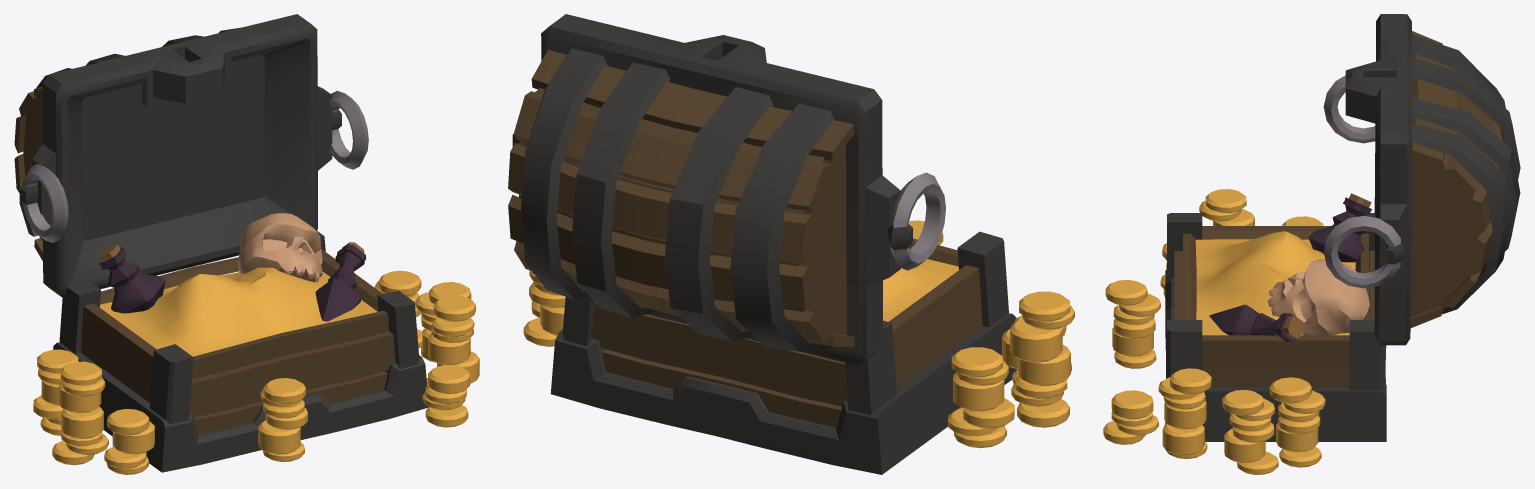
Rendered from Chest Gold-transformed.glb.
3 views of the same model, side by side, from view 1: azimuth 30°, elevation 25°; view 2: azimuth 150°, elevation 25°; view 3: azimuth 270°, elevation 25° (orthographic). The views are drawn at different scales.
Parts seen in each view (by area): view 1: Prop_Chest_Gold; view 2: Prop_Chest_Gold; view 3: Prop_Chest_Gold.
Part boxes in pixels (left/top/right/bottom): Prop_Chest_Gold: left=14, top=14, right=479, bottom=474; Prop_Chest_Gold: left=508, top=14, right=1074, bottom=474; Prop_Chest_Gold: left=1103, top=14, right=1520, bottom=474.
Size of the model in its own units: 1.82 by 1.29 by 1.59.
1 material, 1 textured.
